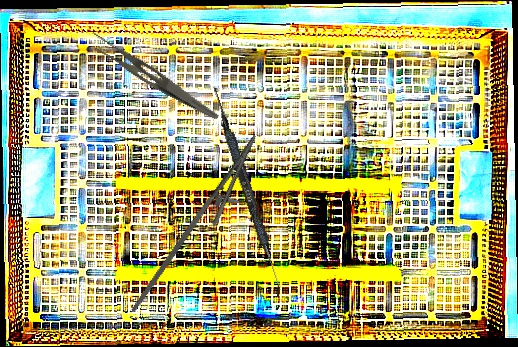Dressing Forceps: (83, 30, 227, 121)
Needle Holder: (130, 122, 272, 332)
Spatula Surgical: (206, 86, 290, 298)
